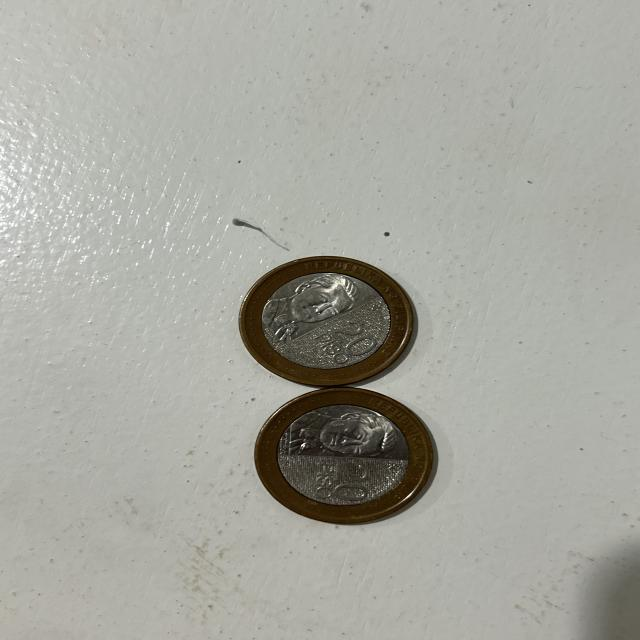20_New_Front: (310, 321, 384, 372), (306, 455, 375, 509)
